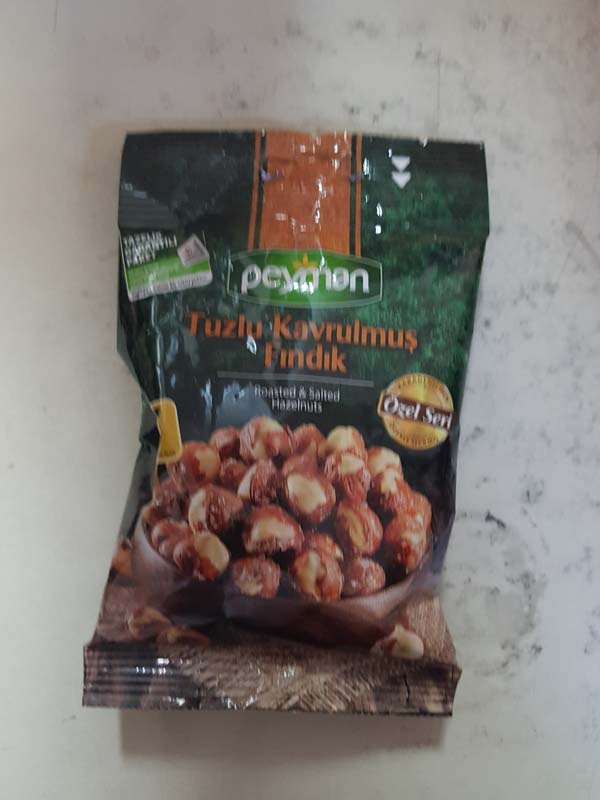peysankavrulmusfindik: (96, 127, 472, 731)
